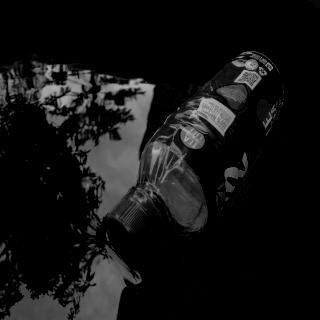bottle: (105, 50, 284, 278)
